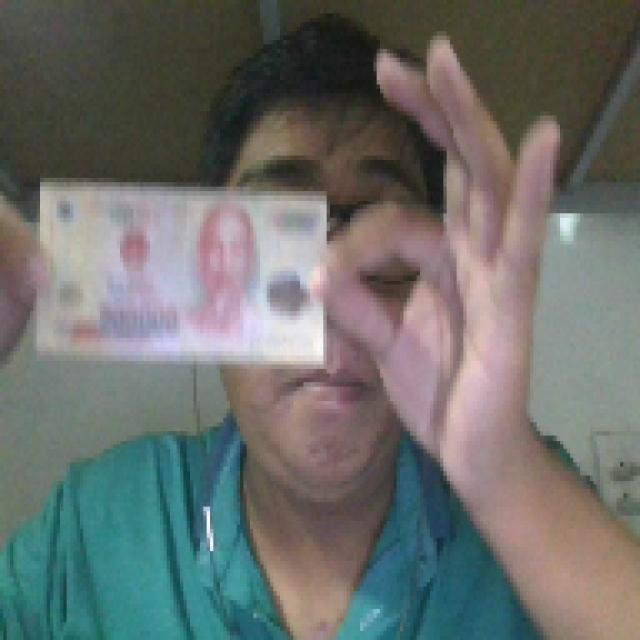200 000 VND: (30, 169, 333, 369)
